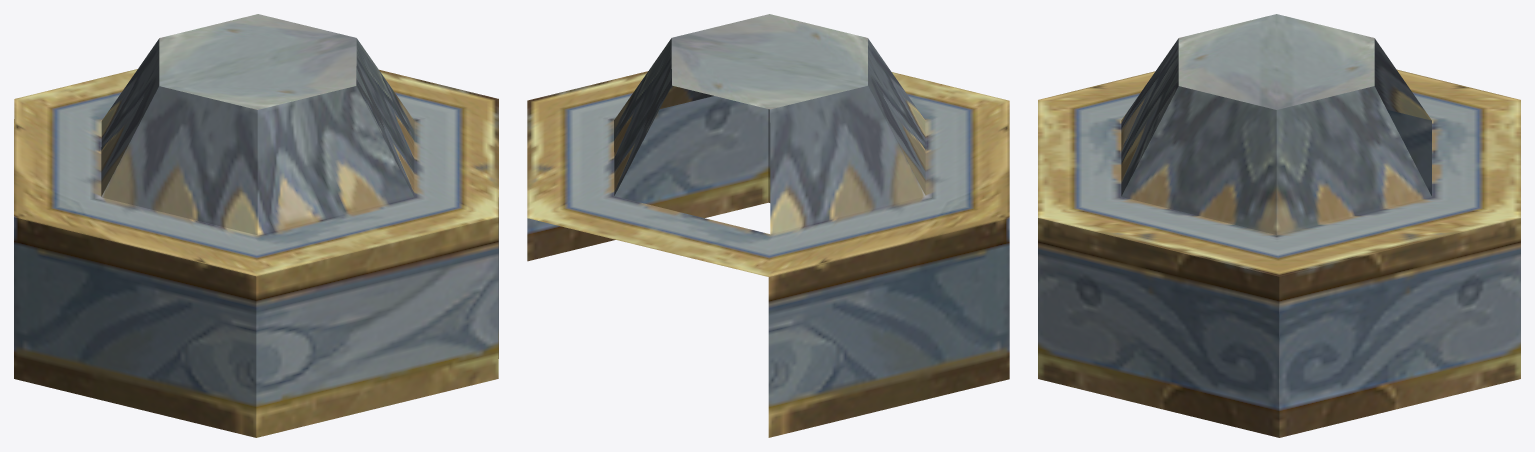
Rendered from fb_yuqinggong_pinjiezhuzi02.FBX.
3 renders of one model, left to right at view 1: azimuth 30°, elevation 25°; view 2: azimuth 150°, elevation 25°; view 3: azimuth 270°, elevation 25°, orthographic.
Parts seen in each view (by area): view 1: fb_yuqinggong_pinjiezhuzi02; view 2: fb_yuqinggong_pinjiezhuzi02; view 3: fb_yuqinggong_pinjiezhuzi02.
Boxes of the visible parts, x1,y1,x2,y2 form: fb_yuqinggong_pinjiezhuzi02: (14, 14, 498, 437); fb_yuqinggong_pinjiezhuzi02: (527, 14, 1009, 437); fb_yuqinggong_pinjiezhuzi02: (1038, 14, 1520, 437).
Bounding box in the file's own units: 100 × 51.14 × 86.73.
